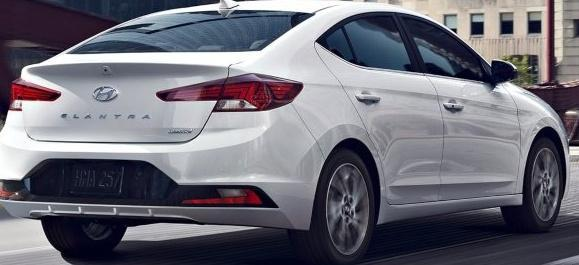Cars: (1, 3, 571, 264)
